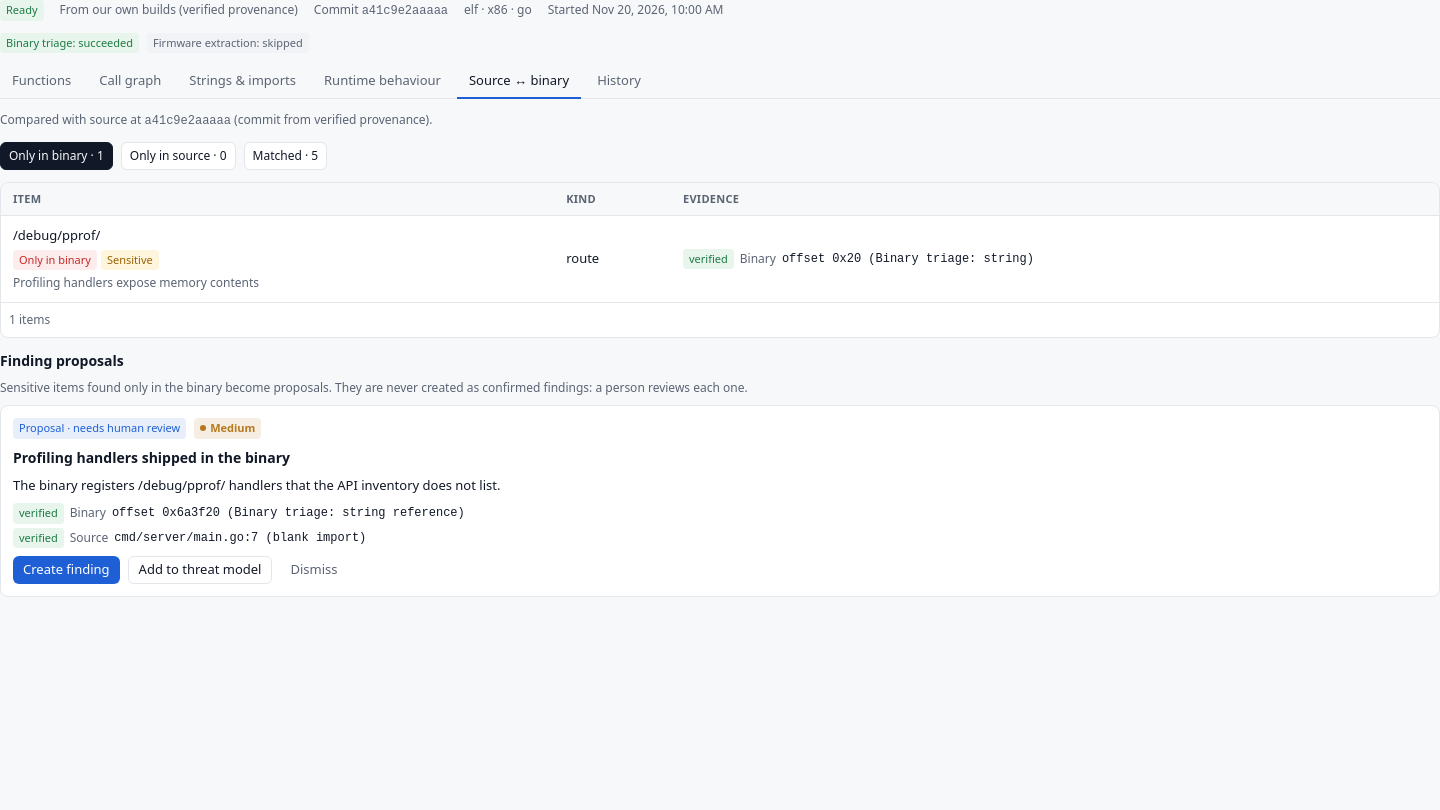
it: AnalysisView › shows the source ↔ binary diff with evidence, and drafts as proposals that need confirmation
The width and height of the screenshot is (1440, 810).
Later steps or results of the test are not shown.
Check: the row with test id "diff-row" shows "/debug/pprof/", box x1=13 y1=226 x2=100 y2=244
Check: the row with test id "diff-row" shows "Only in binary", box x1=19 y1=252 x2=91 y2=266
Click the button "Create finding" at (66, 570), box x1=13 y1=556 x2=120 y2=584
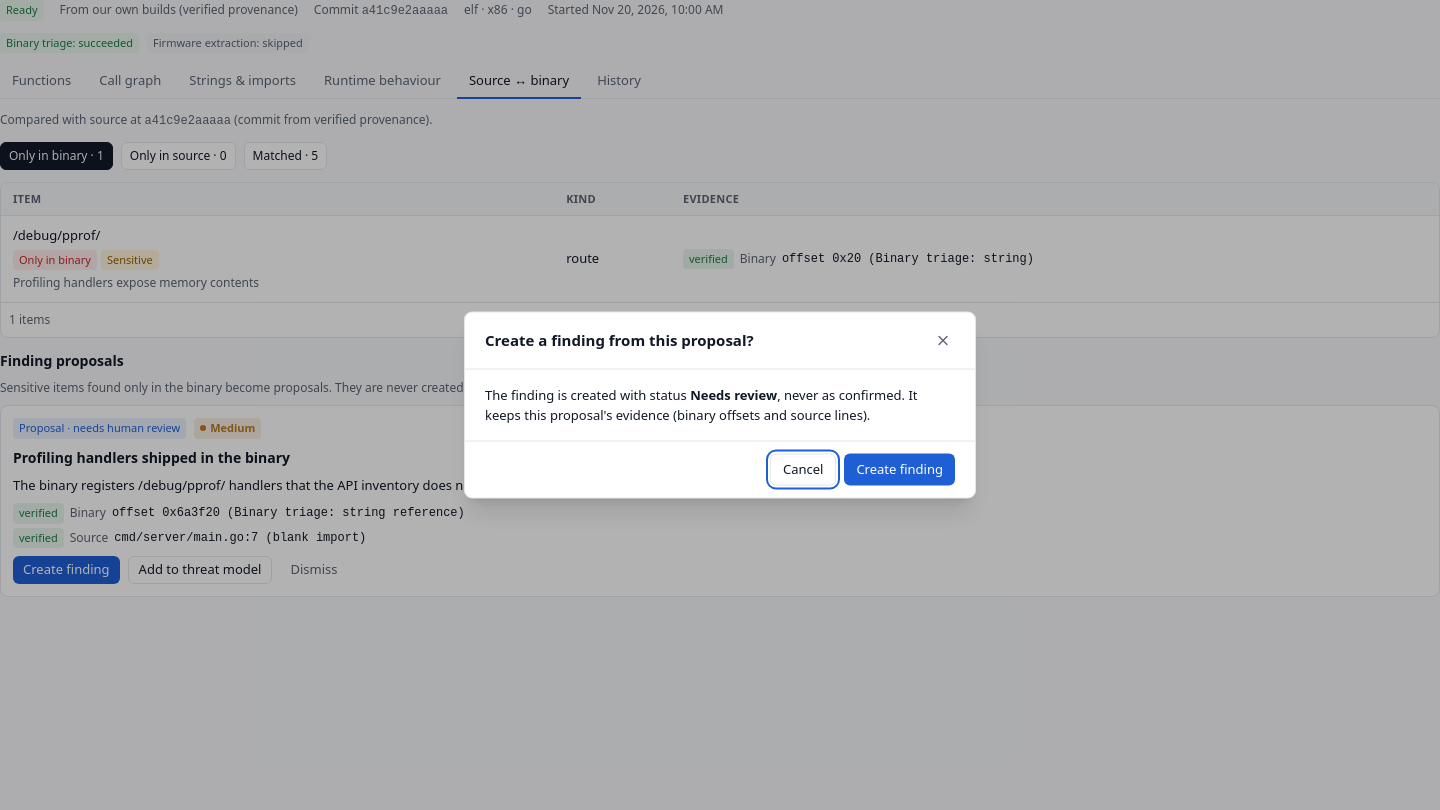
Check: the text "never as confirmed" is shown, box x1=485 y1=386 x2=918 y2=423
